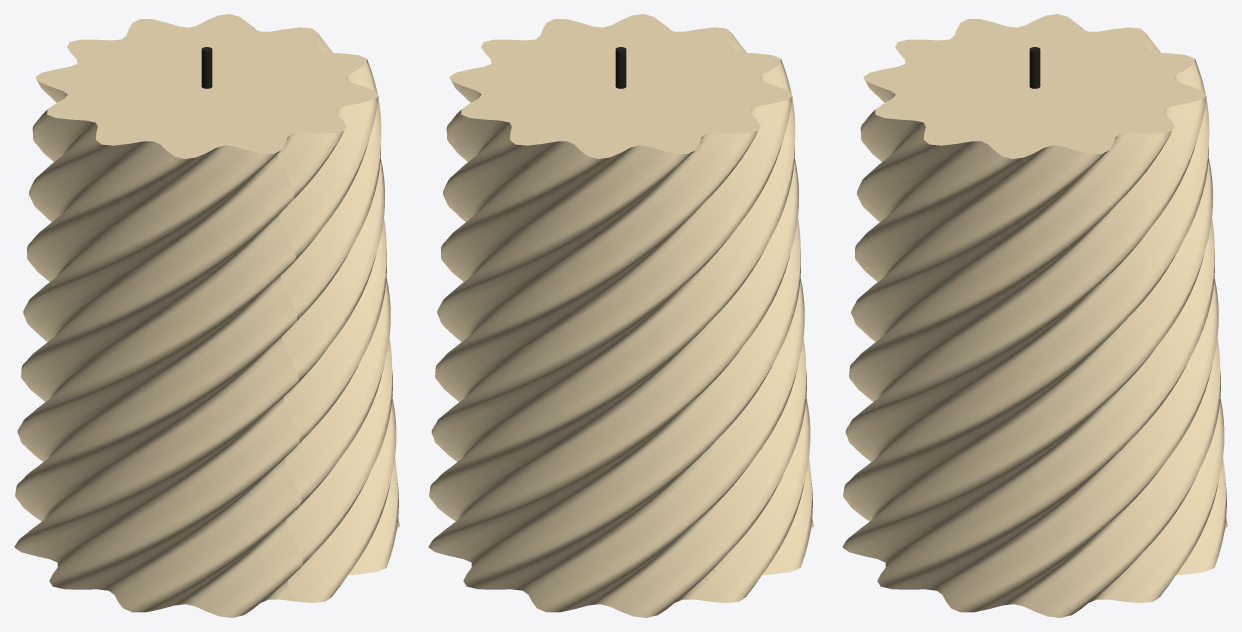
File: sculptural_candle.glb
3 renders of one model, left to right at view 1: azimuth 30°, elevation 25°; view 2: azimuth 150°, elevation 25°; view 3: azimuth 270°, elevation 25°, orthographic.
Size of the model in its own units: 1.13 by 1.57 by 1.13.
